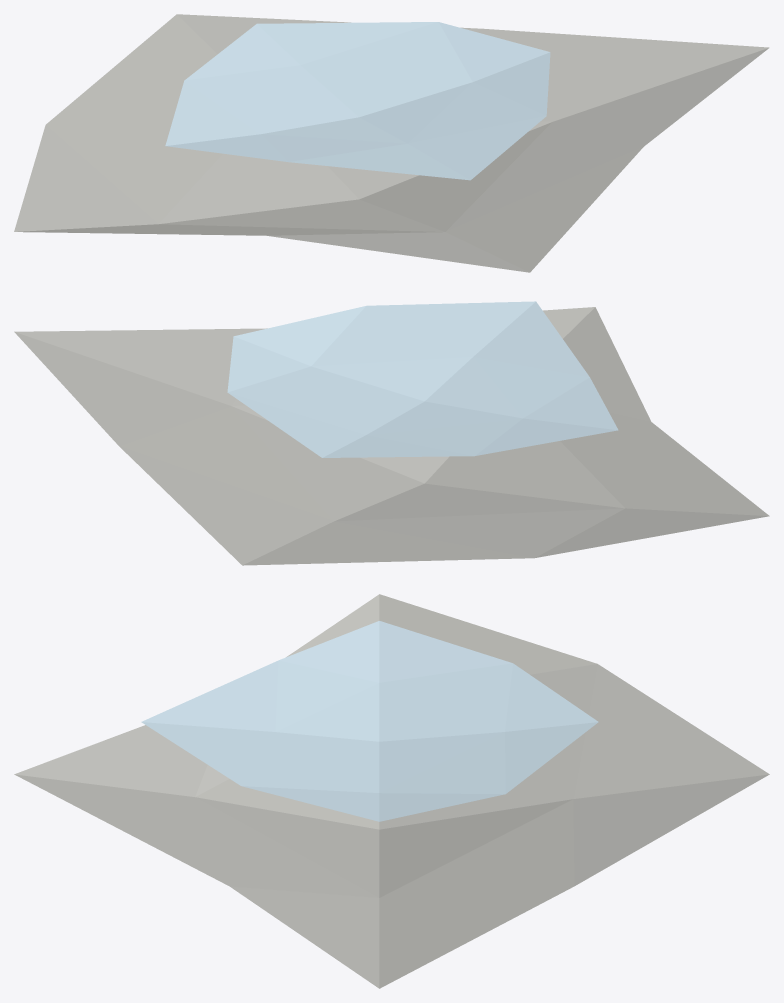
The model's file is puddle_stone_v23.glb.
3 renders of one model, top to bottom at view 1: azimuth 30°, elevation 25°; view 2: azimuth 150°, elevation 25°; view 3: azimuth 270°, elevation 25°, orthographic. The views are drawn at different scales.
Parts seen in each view (by area): view 1: lod0; view 2: lod0; view 3: lod0.
Boxes of the visible parts, x1,y1,x2,y2 form: lod0: (14, 14, 769, 272); lod0: (14, 301, 769, 565); lod0: (14, 594, 769, 988).
Size of what is drawn, in the model's own units: 1.13 by 0.1715 by 0.9156.
